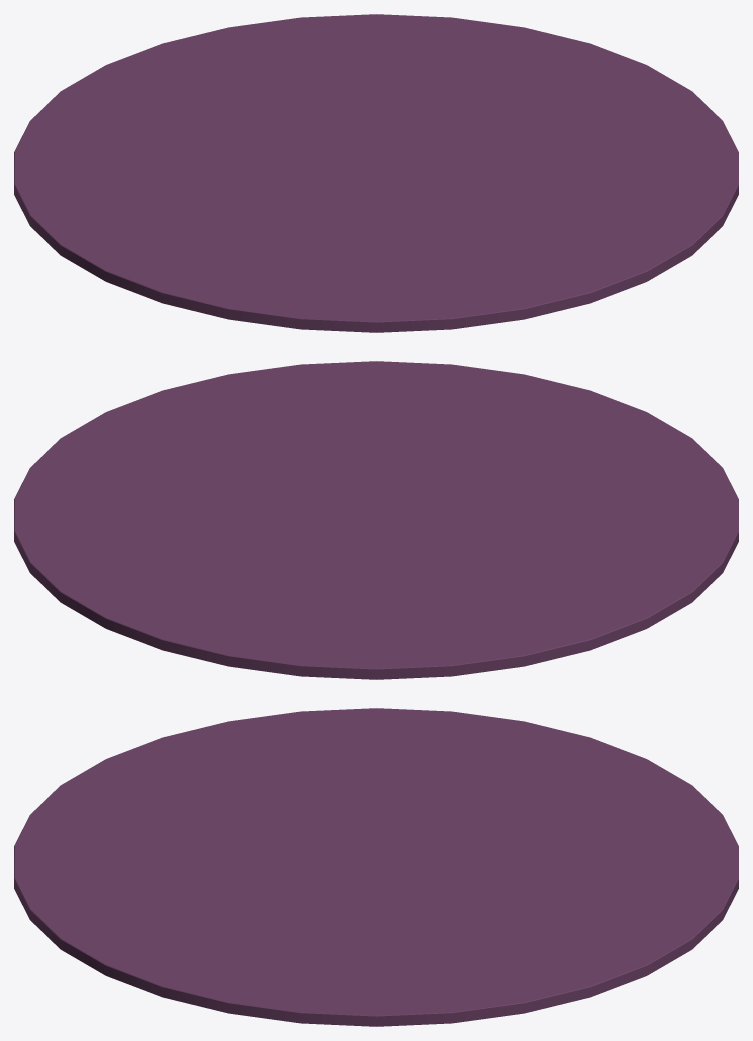
Rendered from Platform_Circle.fbx.
3 views of the same model, one above another, from view 1: azimuth 30°, elevation 25°; view 2: azimuth 150°, elevation 25°; view 3: azimuth 270°, elevation 25° (orthographic).
Visible parts, largest first — view 1: Platform_Circle; view 2: Platform_Circle; view 3: Platform_Circle.
Boxes of the visible parts, <box> form: Platform_Circle: <box>14,14,738,332</box>; Platform_Circle: <box>14,361,738,679</box>; Platform_Circle: <box>14,708,738,1026</box>.
Size of the model in its own units: 32.76 by 0.5508 by 32.58.
